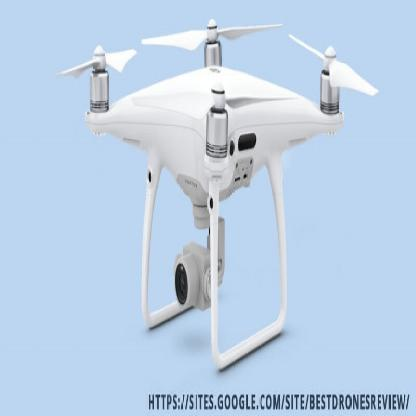drone: (78, 23, 385, 312)
